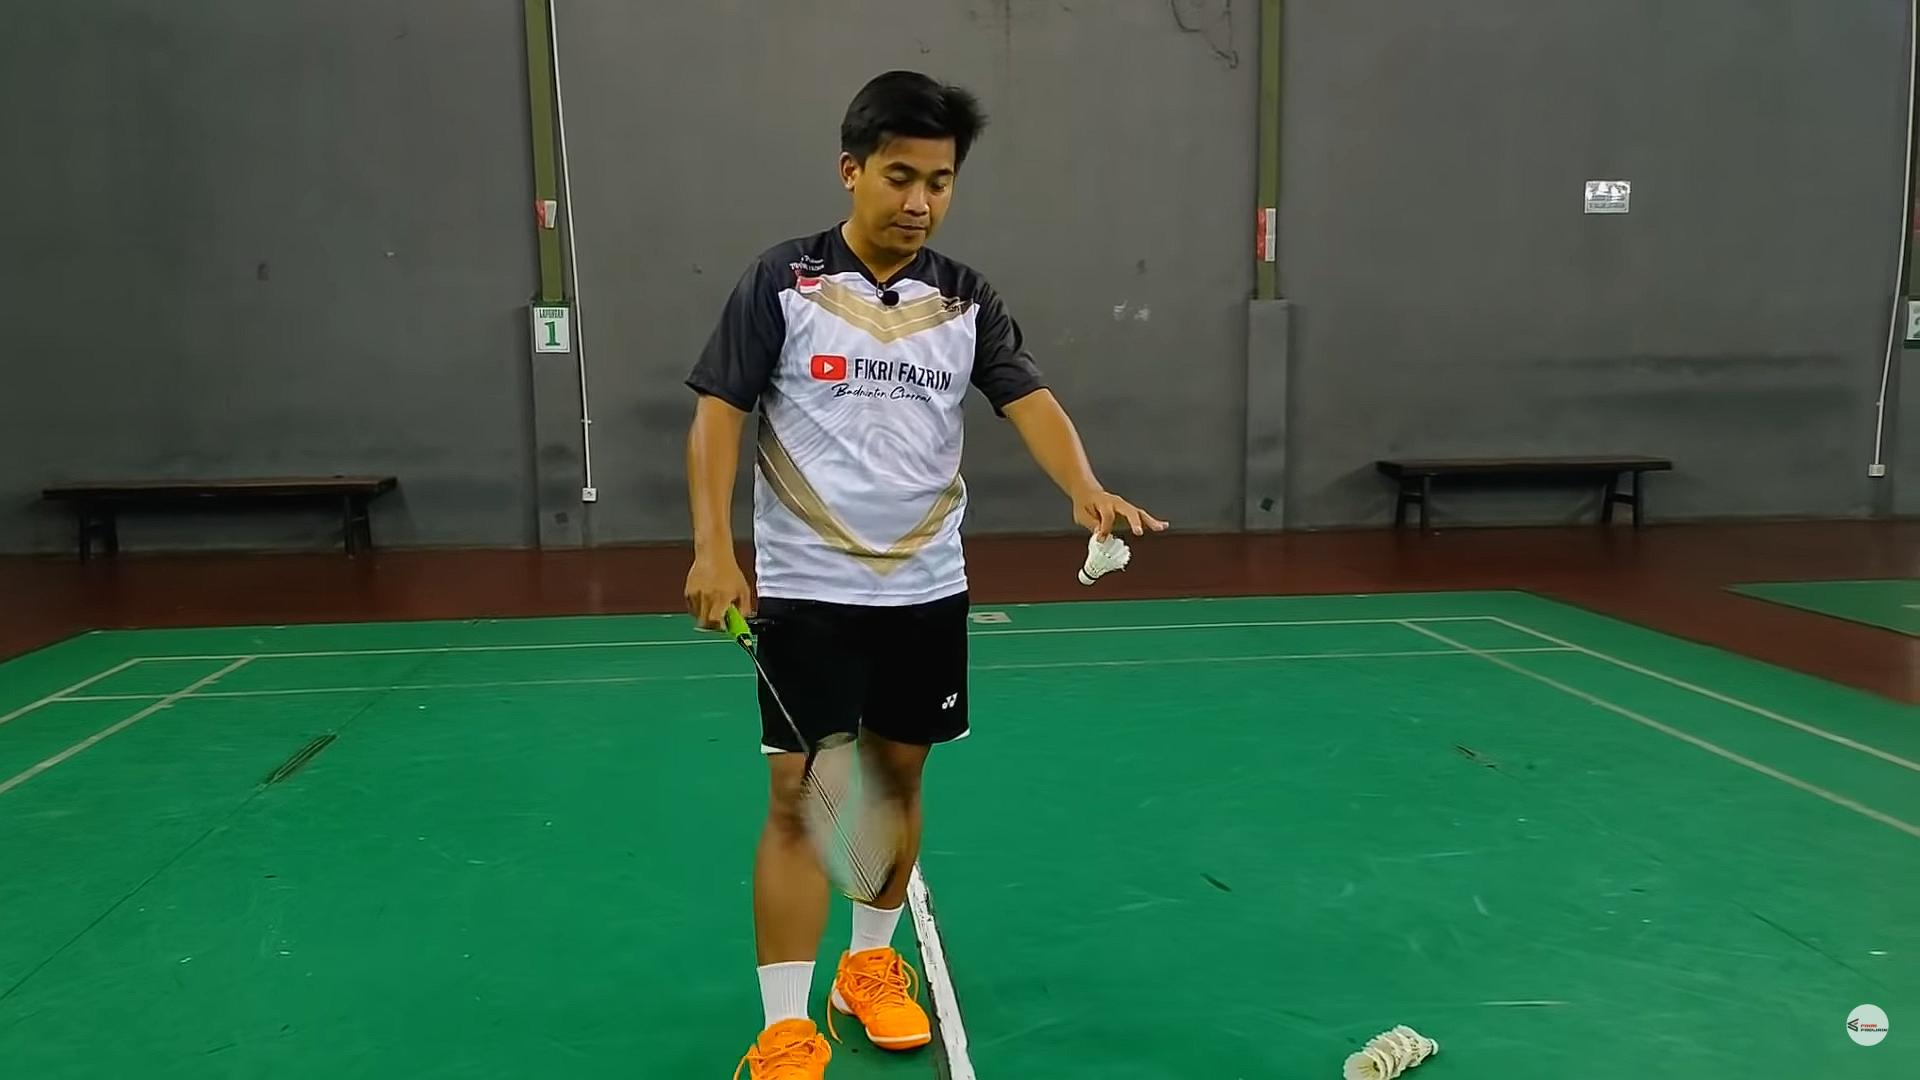racket: (781, 702, 923, 918)
shuttle: (1321, 982, 1441, 1080), (1051, 518, 1154, 609)
